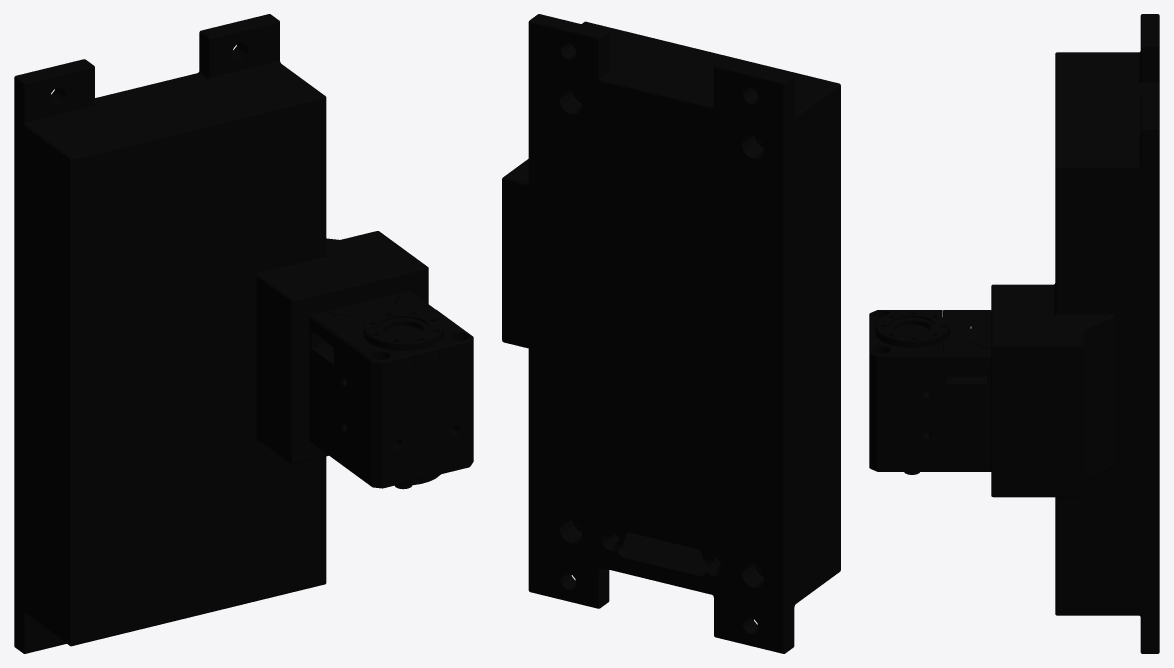
3 views of the same model, side by side, from view 1: azimuth 30°, elevation 25°; view 2: azimuth 150°, elevation 25°; view 3: azimuth 270°, elevation 25° (orthographic). The views are drawn at different scales.
Parts seen in each view (by area): view 1: base_link; view 2: base_link; view 3: base_link.
Boxes of the visible parts, x1,y1,x2,y2 form: base_link: (14, 14, 473, 653); base_link: (502, 14, 840, 653); base_link: (869, 14, 1159, 653).
Size of the model in its own units: 0.0904 by 0.1524 by 0.0763.
Materials: 1 (1 with a texture image).
